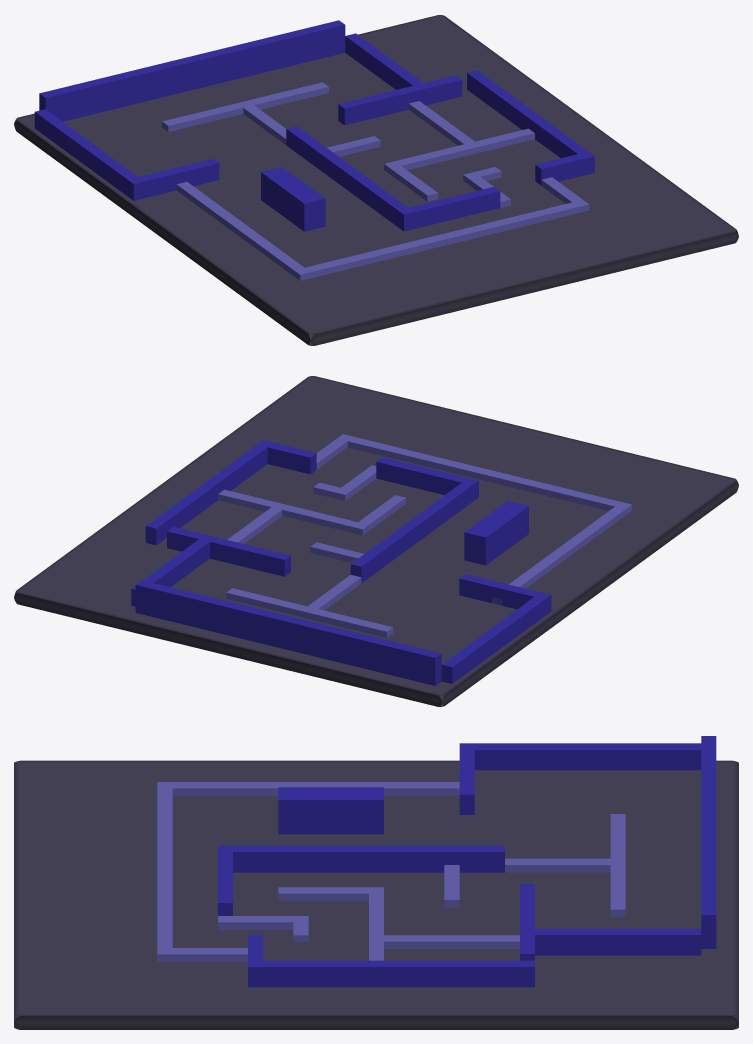
Rendered from Track 2.obj.
The picture shows the model from 3 angles, top to bottom: view 1: azimuth 30°, elevation 25°; view 2: azimuth 150°, elevation 25°; view 3: azimuth 270°, elevation 25°; orthographic projection. The views are drawn at different scales.
Parts seen in each view (by area): view 1: mesh; view 2: mesh; view 3: mesh.
Part boxes in pixels (bbox=[...]): mesh: bbox=[14, 15, 738, 345]; mesh: bbox=[14, 376, 738, 706]; mesh: bbox=[14, 736, 738, 1029].
Size of the model in its own units: 2.5 by 0.25 by 3.
3 materials, 3 textured.
